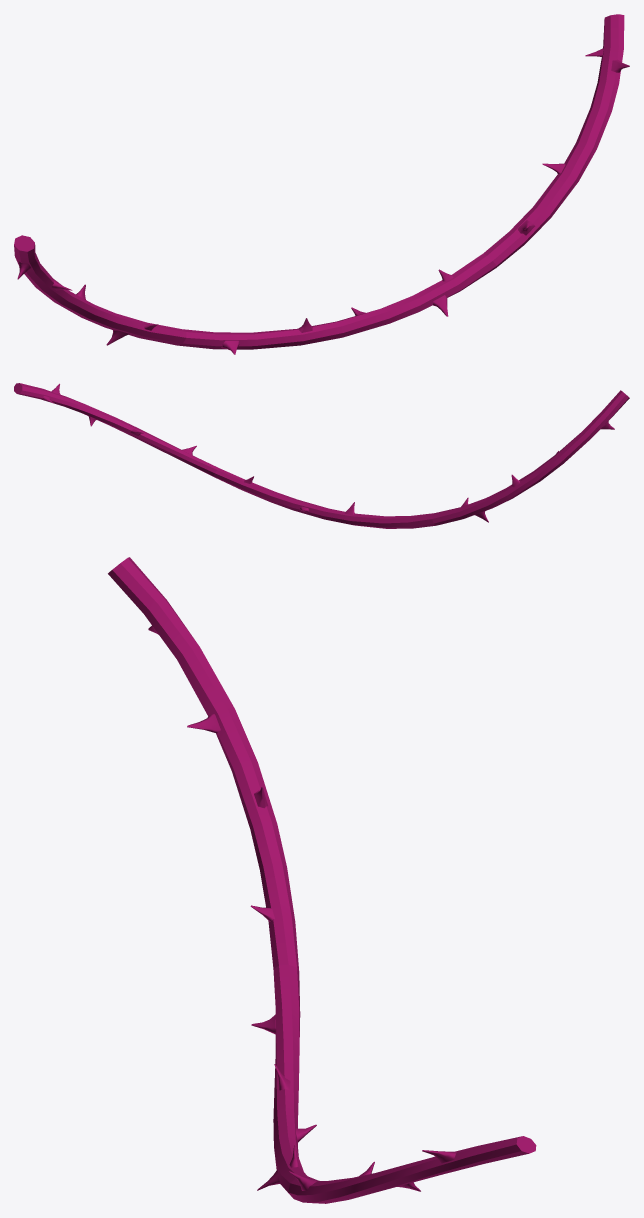
Rendered from N_Brambles_02.fbx.
3 renders of one model, top to bottom at view 1: azimuth 30°, elevation 25°; view 2: azimuth 150°, elevation 25°; view 3: azimuth 270°, elevation 25°, orthographic. The views are drawn at different scales.
Visible parts, largest first — view 1: N_Brambles_02; view 2: N_Brambles_02; view 3: N_Brambles_02.
Part boxes in pixels (box(x1,y1,x2,y2)): N_Brambles_02: box(14, 14, 629, 354); N_Brambles_02: box(14, 383, 629, 528); N_Brambles_02: box(108, 557, 536, 1203).
Bounding box in the file's own units: 47.85 × 14.31 × 17.21.
